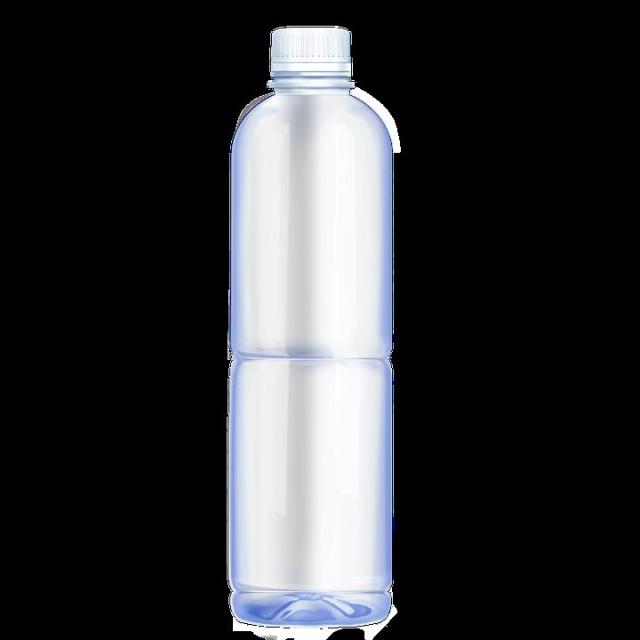bottle: (220, 22, 398, 630)
